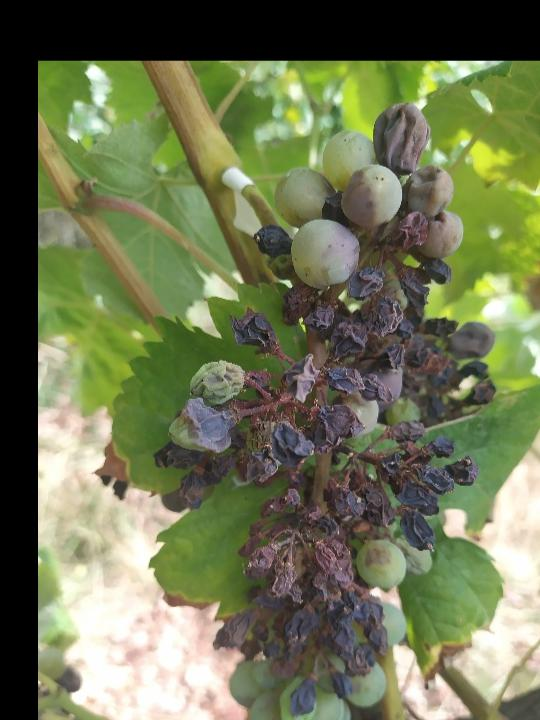grape: (151, 97, 505, 720)
